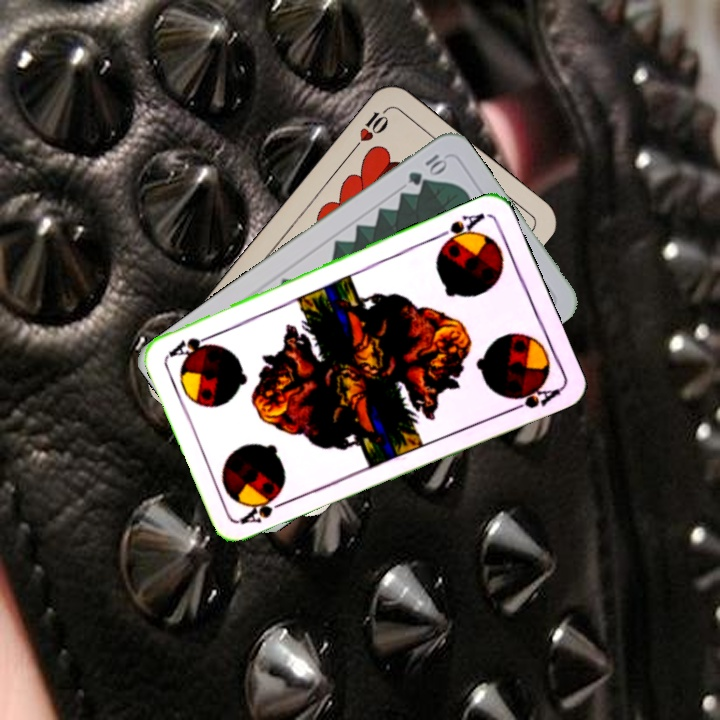G10: (404, 150, 450, 188)
H10: (348, 104, 391, 153)
SA: (432, 208, 488, 250), (237, 492, 294, 527)
